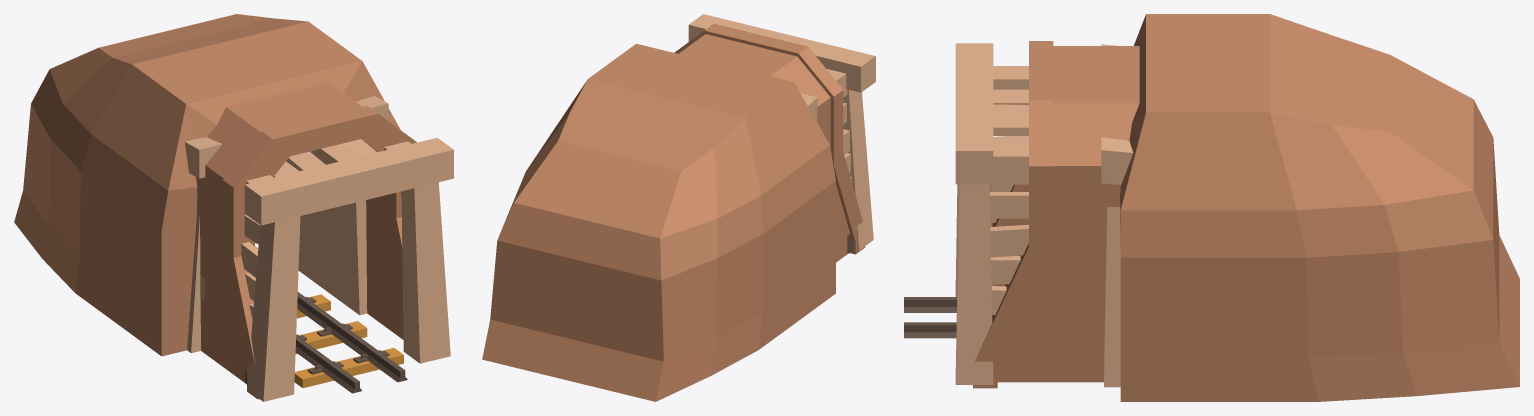
The model's file is TrainTrack_CityTunnel.fbx.
3 renders of one model, left to right at view 1: azimuth 30°, elevation 25°; view 2: azimuth 150°, elevation 25°; view 3: azimuth 270°, elevation 25°, orthographic. The views are drawn at different scales.
Visible parts, largest first — view 1: TrainTrack_CityTunnel; view 2: TrainTrack_CityTunnel; view 3: TrainTrack_CityTunnel.
Part boxes in pixels (x1,y1,x2,y2): TrainTrack_CityTunnel: (14, 14, 453, 401); TrainTrack_CityTunnel: (482, 14, 875, 401); TrainTrack_CityTunnel: (904, 14, 1519, 401).
Bounding box in the file's own units: 220 × 415 × 203.
